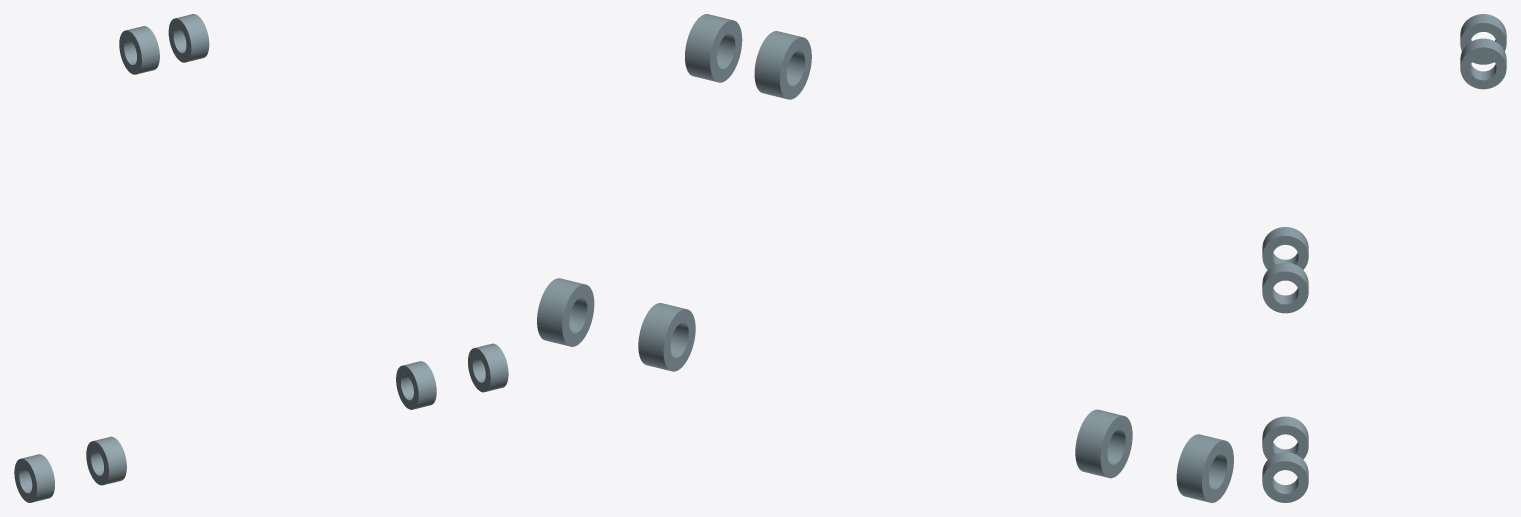
The model's file is upper_bearing_envelopes_C02_R01.glb.
3 renders of one model, left to right at view 1: azimuth 30°, elevation 25°; view 2: azimuth 150°, elevation 25°; view 3: azimuth 270°, elevation 25°, orthographic. The views are drawn at different scales.
Visible parts, largest first — view 1: GE20ES_fit_envelope_-170_1, GE20ES_fit_envelope_-170_-1, GE20ES_fit_envelope_0_-1, GE20ES_fit_envelope_170_1, GE20ES_fit_envelope_170_-1, GE20ES_fit_envelope_0_1; view 2: GE20ES_fit_envelope_-170_1, GE20ES_fit_envelope_170_-1, GE20ES_fit_envelope_170_1, GE20ES_fit_envelope_-170_-1, GE20ES_fit_envelope_0_-1, GE20ES_fit_envelope_0_1; view 3: GE20ES_fit_envelope_0_1, GE20ES_fit_envelope_-170_1, GE20ES_fit_envelope_170_1, GE20ES_fit_envelope_170_-1, GE20ES_fit_envelope_-170_-1, GE20ES_fit_envelope_0_-1.
Boxes of the visible parts, x1,y1,x2,y2 form: GE20ES_fit_envelope_-170_1: (86, 436, 126, 485); GE20ES_fit_envelope_-170_-1: (14, 454, 54, 502); GE20ES_fit_envelope_0_-1: (119, 26, 159, 74); GE20ES_fit_envelope_170_1: (468, 343, 508, 392); GE20ES_fit_envelope_170_-1: (396, 361, 436, 409); GE20ES_fit_envelope_0_1: (168, 14, 209, 62); GE20ES_fit_envelope_-170_1: (1075, 409, 1132, 478); GE20ES_fit_envelope_170_-1: (638, 303, 695, 371); GE20ES_fit_envelope_170_1: (537, 278, 594, 346); GE20ES_fit_envelope_-170_-1: (1176, 434, 1233, 502); GE20ES_fit_envelope_0_-1: (754, 31, 811, 99); GE20ES_fit_envelope_0_1: (685, 14, 742, 82); GE20ES_fit_envelope_0_1: (1460, 38, 1506, 89); GE20ES_fit_envelope_-170_1: (1262, 262, 1308, 313); GE20ES_fit_envelope_170_1: (1262, 452, 1308, 502); GE20ES_fit_envelope_170_-1: (1262, 416, 1308, 459); GE20ES_fit_envelope_-170_-1: (1262, 227, 1308, 269); GE20ES_fit_envelope_0_-1: (1460, 14, 1506, 64).
Bounding box in the file's own units: 0.42 × 0.297 × 0.185.
